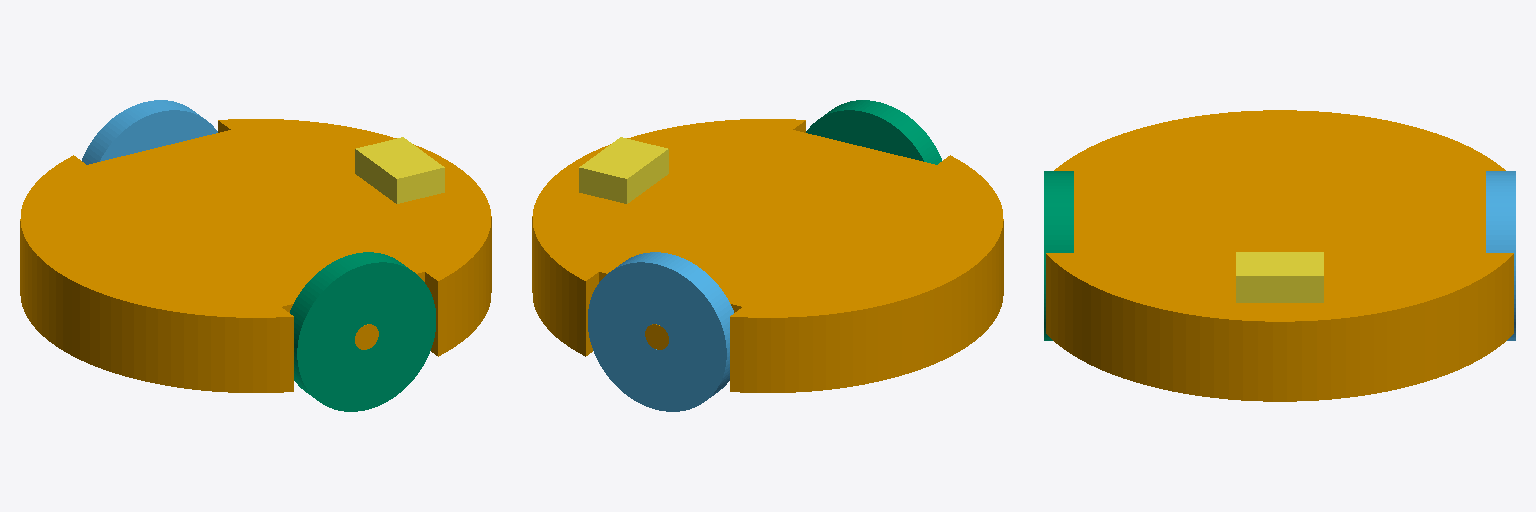
robot.urdf — differential-mobile-robot:
<?xml version="1.0" ?>
<robot name="differential-mobile-robot">

<material name="silver">
  <color rgba="0.700 0.700 0.700 1.000"/>
</material>

<link name="base_link">
  <inertial>
    <origin xyz="-1.2819099005420782e-15 0.0 0.0075000000002764635" rpy="0 0 0"/>
    <mass value="0.6230822460961448"/>
    <inertia ixx="0.00024678249724136556" iyy="0.00031026758160746686" izz="0.0005337374783177649" ixy="1.7848833522293714e-19" iyz="0.0" ixz="7.808864643921406e-20"/>
  </inertial>
  <visual>
    <origin xyz="0 0 0" rpy="0 0 0"/>
    <geometry>
      <mesh filename="meshes/base_link.stl" scale="0.001 0.001 0.001"/>
    </geometry>
    <material name="silver"/>
    <material/>
  </visual>
  <collision>
    <origin xyz="0 0 0" rpy="0 0 0"/>
    <geometry>
      <mesh filename="meshes/base_link.stl" scale="0.001 0.001 0.001"/>
    </geometry>
  </collision>
</link>

<link name="Wheel2_1_1">
  <inertial>
    <origin xyz="-7.977024924141525e-15 -0.0025000000000000022 1.1175874375241035e-10" rpy="0 0 0"/>
    <mass value="0.025154733126962883"/>
    <inertia ixx="1.4139056653204502e-06" iyy="2.7229999423009313e-06" izz="1.4139056650095078e-06" ixy="-5.229150445990025e-22" iyz="-8.470329472543003e-22" ixz="-1.5202883620880588e-18"/>
  </inertial>
  <visual>
    <origin xyz="-0.0 -0.04 -0.0075" rpy="0 0 0"/>
    <geometry>
      <mesh filename="meshes/Wheel2_1_1.stl" scale="0.001 0.001 0.001"/>
    </geometry>
    <material name="silver"/>
    <material/>
  </visual>
  <collision>
    <origin xyz="-0.0 -0.04 -0.0075" rpy="0 0 0"/>
    <geometry>
      <mesh filename="meshes/Wheel2_1_1.stl" scale="0.001 0.001 0.001"/>
    </geometry>
  </collision>
</link>

<link name="Wheel1_1_1">
  <inertial>
    <origin xyz="-8.00474217544153e-15 0.0025000000000000022 1.1175871166002604e-10" rpy="0 0 0"/>
    <mass value="0.025154733126962883"/>
    <inertia ixx="1.4139056653204502e-06" iyy="2.7229999423009305e-06" izz="1.4139056650094942e-06" ixy="1.045830089198005e-21" iyz="8.470329472543003e-22" ixz="2.0916376749779306e-21"/>
  </inertial>
  <visual>
    <origin xyz="-0.0 0.04 -0.0075" rpy="0 0 0"/>
    <geometry>
      <mesh filename="meshes/Wheel1_1_1.stl" scale="0.001 0.001 0.001"/>
    </geometry>
    <material name="silver"/>
    <material/>
  </visual>
  <collision>
    <origin xyz="-0.0 0.04 -0.0075" rpy="0 0 0"/>
    <geometry>
      <mesh filename="meshes/Wheel1_1_1.stl" scale="0.001 0.001 0.001"/>
    </geometry>
  </collision>
</link>

<link name="Camera_1_1">
  <inertial>
    <origin xyz="0.030000000000000006 -4.440892098500626e-18 0.0025000000000000022" rpy="0 0 0"/>
    <mass value="0.0058874999999999995"/>
    <inertia ixx="1.226562499999998e-07" iyy="6.132812500000001e-08" izz="1.5945312499999833e-07" ixy="-3.48610029732299e-23" iyz="-2.1788126858268794e-23" ixz="1.2705494208814505e-21"/>
  </inertial>
  <visual>
    <origin xyz="-0.0 0.0 -0.015" rpy="0 0 0"/>
    <geometry>
      <mesh filename="meshes/Camera_1_1.stl" scale="0.001 0.001 0.001"/>
    </geometry>
    <material name="silver"/>
    <material/>
  </visual>
  <collision>
    <origin xyz="-0.0 0.0 -0.015" rpy="0 0 0"/>
    <geometry>
      <mesh filename="meshes/Camera_1_1.stl" scale="0.001 0.001 0.001"/>
    </geometry>
  </collision>
</link>

<joint name="Revolute 4" type="continuous">
  <origin xyz="0.0 0.04 0.0075" rpy="0 0 0"/>
  <parent link="base_link"/>
  <child link="Wheel2_1_1"/>
  <axis xyz="0.0 1.0 0.0"/>
</joint>
<transmission name="Revolute 4_tran">
  <type>transmission_interface/SimpleTransmission</type>
  <joint name="Revolute 4">
    <hardwareInterface>PositionJointInterface</hardwareInterface>
  </joint>
  <actuator name="Revolute 4_actr">
    <hardwareInterface>PositionJointInterface</hardwareInterface>
    <mechanicalReduction>1</mechanicalReduction>
  </actuator>
</transmission>

<joint name="Revolute 5" type="continuous">
  <origin xyz="0.0 -0.04 0.0075" rpy="0 0 0"/>
  <parent link="base_link"/>
  <child link="Wheel1_1_1"/>
  <axis xyz="0.0 -1.0 0.0"/>
</joint>
<transmission name="Revolute 5_tran">
  <type>transmission_interface/SimpleTransmission</type>
  <joint name="Revolute 5">
    <hardwareInterface>PositionJointInterface</hardwareInterface>
  </joint>
  <actuator name="Revolute 5_actr">
    <hardwareInterface>PositionJointInterface</hardwareInterface>
    <mechanicalReduction>1</mechanicalReduction>
  </actuator>
</transmission>

<joint name="Rigid 6" type="fixed">
  <origin xyz="0.0 0.0 0.015" rpy="0 0 0"/>
  <parent link="base_link"/>
  <child link="Camera_1_1"/>
</joint>

</robot>

--- Render facts (derived) ---
3 views of the same robot in one strip: view 1: azimuth 30°, elevation 25°; view 2: azimuth 150°, elevation 25°; view 3: azimuth 270°, elevation 25° (orthographic).
Robot: differential-mobile-robot — 4 links, 3 joints (2 continuous, 1 fixed); root link base_link; default pose: every joint at zero.
Visible links, largest first — view 1: base_link, Wheel1_1_1, Wheel2_1_1, Camera_1_1; view 2: base_link, Wheel2_1_1, Wheel1_1_1, Camera_1_1; view 3: base_link, Camera_1_1, Wheel2_1_1, Wheel1_1_1.
Link boxes in pixels (x1,y1,x2,y2): base_link: (20, 119, 491, 392); Wheel1_1_1: (290, 252, 435, 411); Wheel2_1_1: (82, 100, 217, 164); Camera_1_1: (355, 137, 444, 203); base_link: (532, 119, 1003, 392); Wheel2_1_1: (588, 252, 733, 411); Wheel1_1_1: (806, 100, 941, 164); Camera_1_1: (579, 137, 668, 203); base_link: (1046, 110, 1513, 401); Camera_1_1: (1236, 252, 1323, 302); Wheel2_1_1: (1486, 171, 1515, 340); Wheel1_1_1: (1044, 171, 1073, 340).
Bounding box of the posed robot: 0.085 × 0.08 × 0.029 m (x, y, z).
4 mesh visuals loaded from 4 distinct referenced files (4 binary STL).